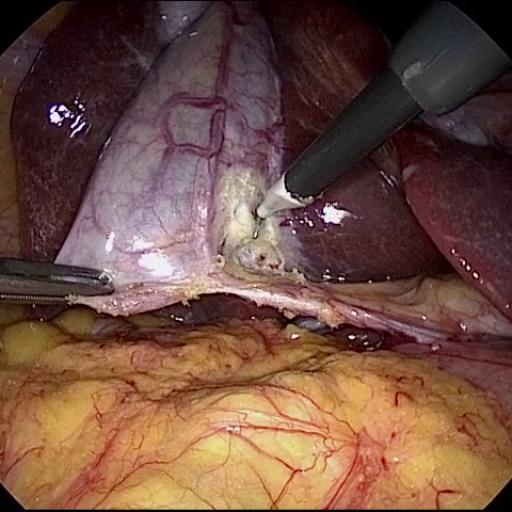Grasper: (0, 226, 136, 328)
Hook: (244, 161, 310, 241)
